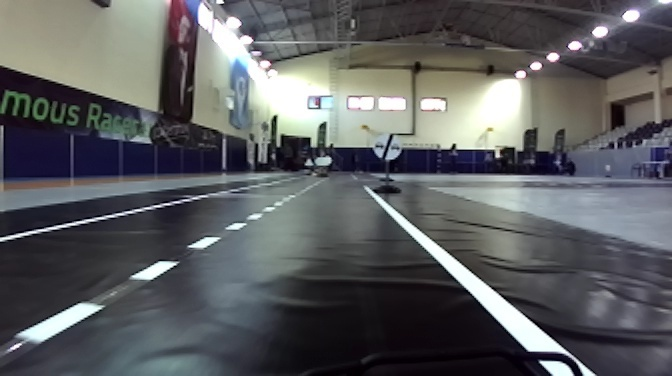sollama_serbest: (368, 132, 402, 162)
